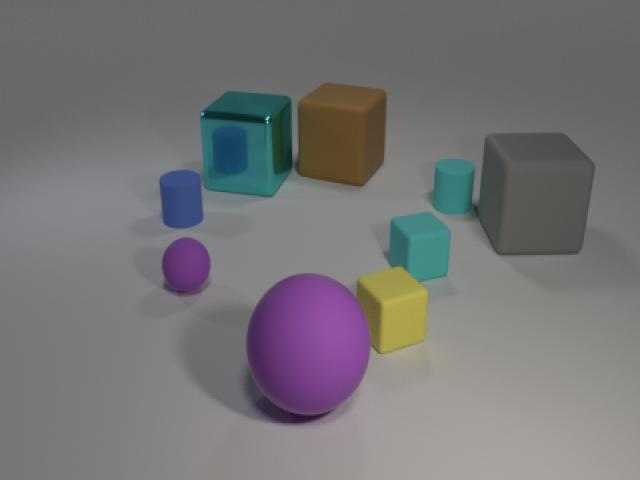cylinder: (153, 162, 210, 234), (430, 155, 477, 216)
round ball: (238, 264, 376, 425), (158, 234, 212, 297)
